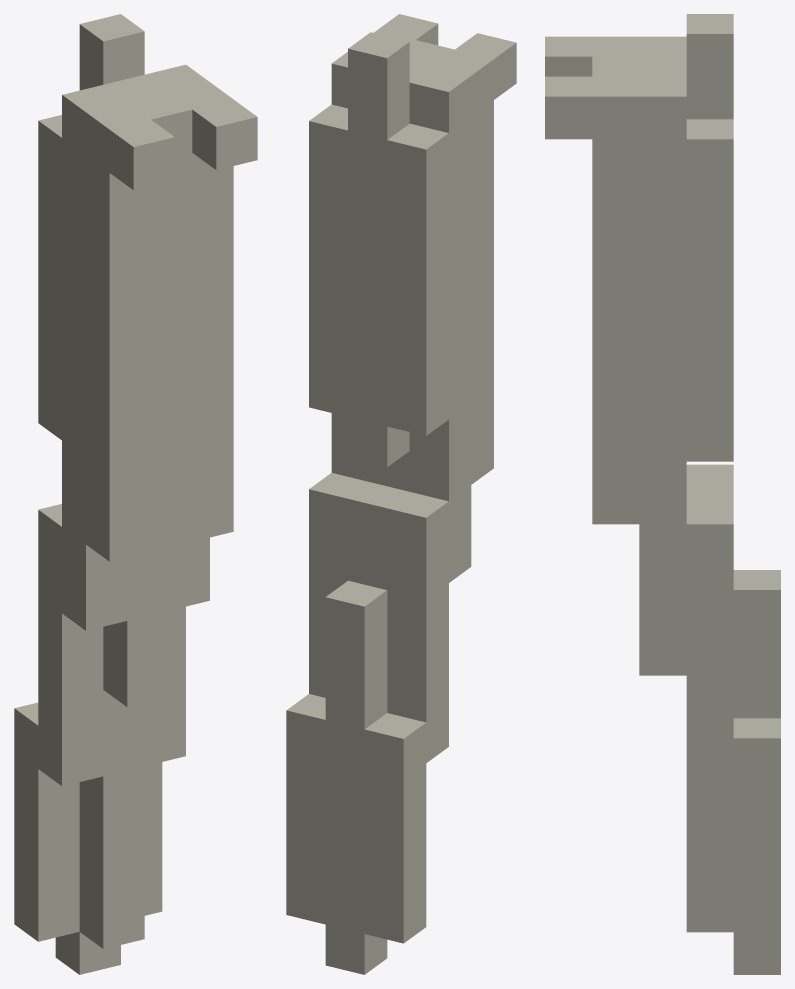
File: NB_TR_F_leg_l.fbx
3 renders of one model, left to right at view 1: azimuth 30°, elevation 25°; view 2: azimuth 150°, elevation 25°; view 3: azimuth 270°, elevation 25°, orthographic. The views are drawn at different scales.
Parts seen in each view (by area): view 1: leg_l; view 2: leg_l; view 3: leg_l.
Boxes of the visible parts, box(x1,y1,x2,y2) form: leg_l: box(14, 14, 257, 974); leg_l: box(286, 14, 516, 974); leg_l: box(545, 14, 780, 974).
Bounding box in the file's own units: 3 × 22 × 5.
1 material, 1 textured.
